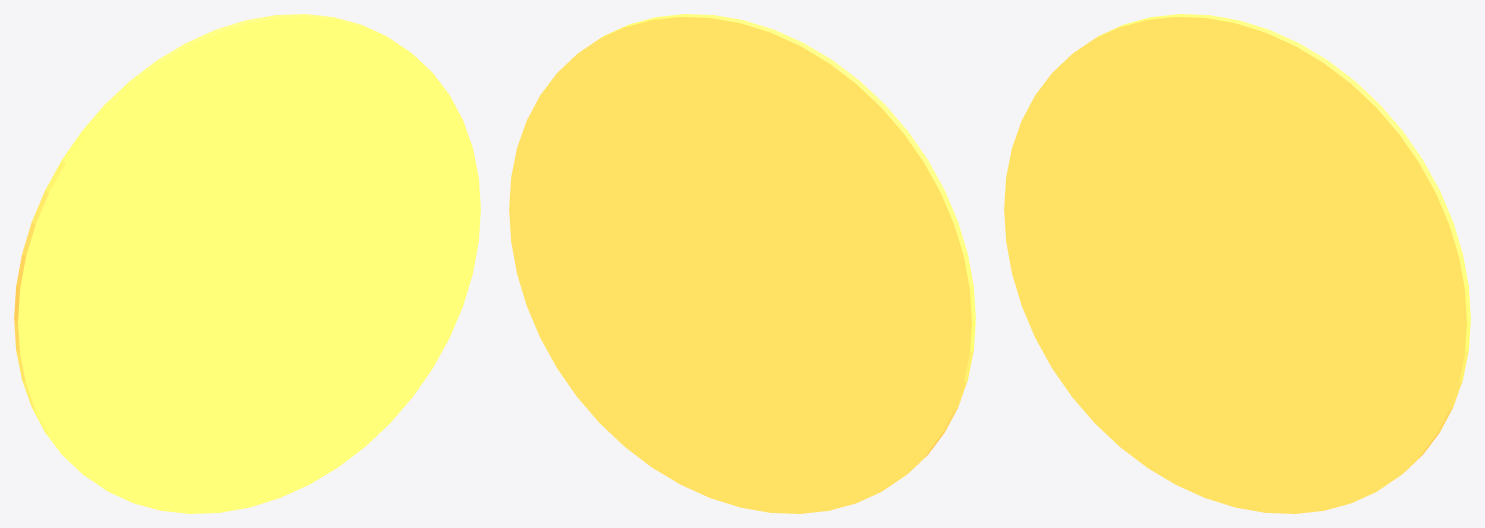
The model's file is volcano_lava_pool_game.glb.
3 views of the same model, side by side, from view 1: azimuth 30°, elevation 25°; view 2: azimuth 150°, elevation 25°; view 3: azimuth 330°, elevation 25° (orthographic).
Visible parts, largest first — view 1: geometry_0; view 2: geometry_0; view 3: geometry_0.
Boxes of the visible parts, x1,y1,x2,y2 form: geometry_0: (14, 14, 480, 513); geometry_0: (509, 14, 975, 513); geometry_0: (1004, 14, 1470, 513).
Size of the model in its own units: 68 by 68 by 1.
